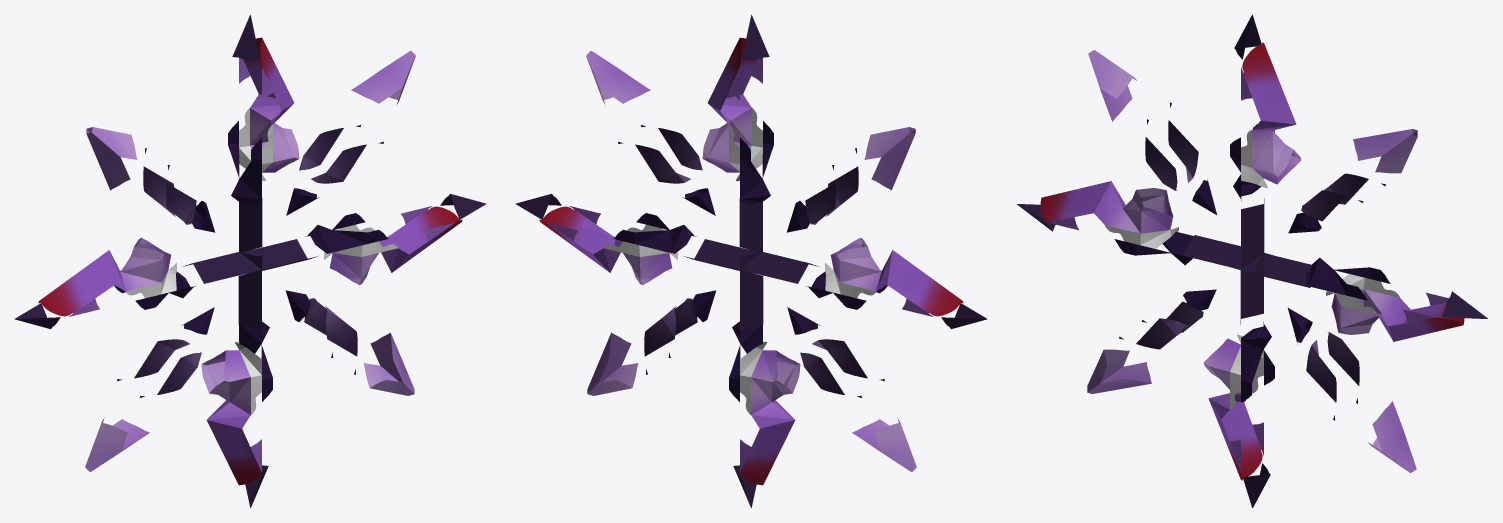
Rendered from ferriswheel.obj.
3 views of the same model, side by side, from view 1: azimuth 30°, elevation 25°; view 2: azimuth 150°, elevation 25°; view 3: azimuth 330°, elevation 25° (orthographic).
Bounding box in the file's own units: 59.68 × 59.68 × 5.
